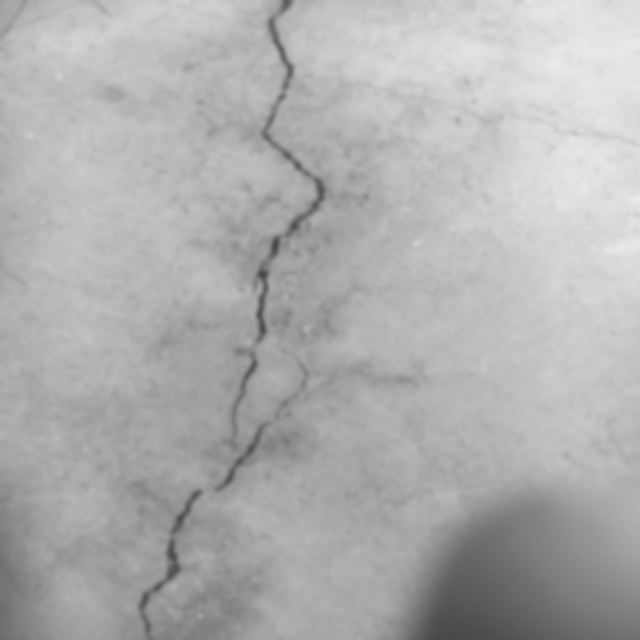SurfaceCrack: (110, 1, 354, 640)
